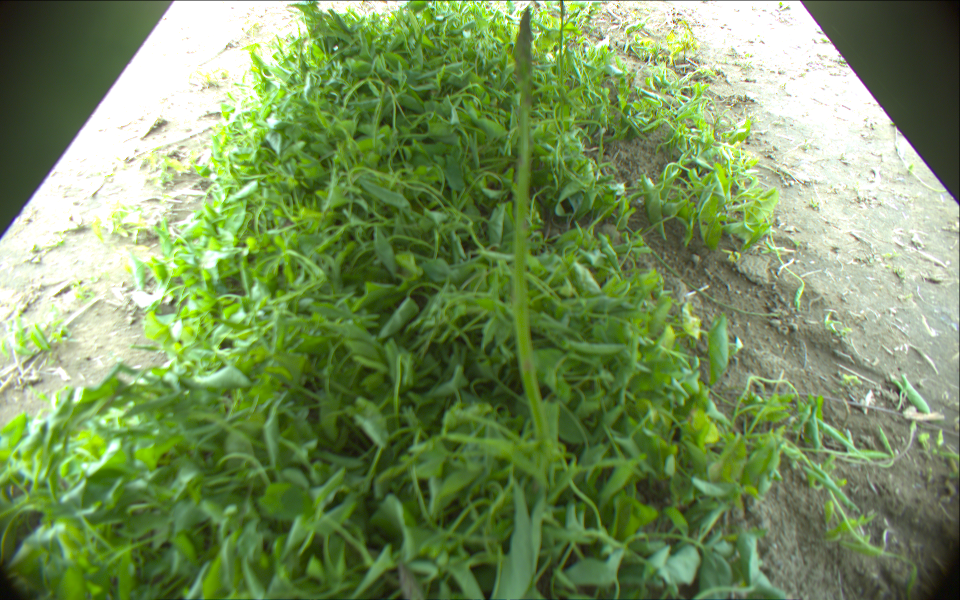aspa: (506, 2, 556, 465), (555, 1, 571, 80)
